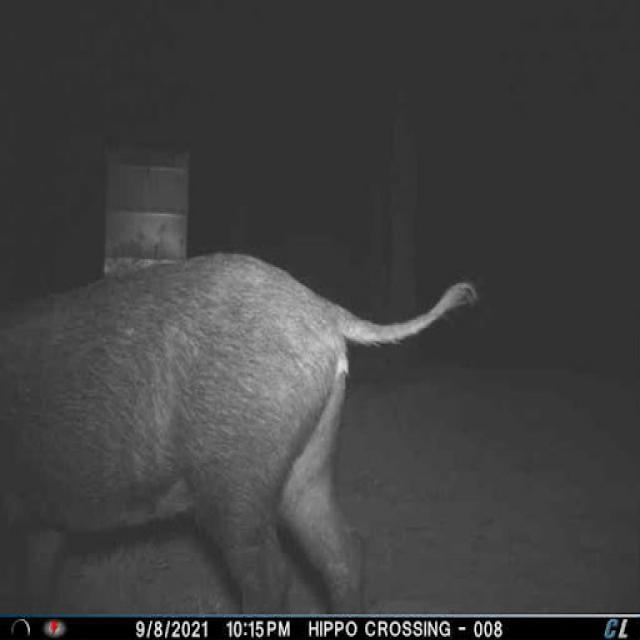wild boar: (2, 240, 478, 612)
